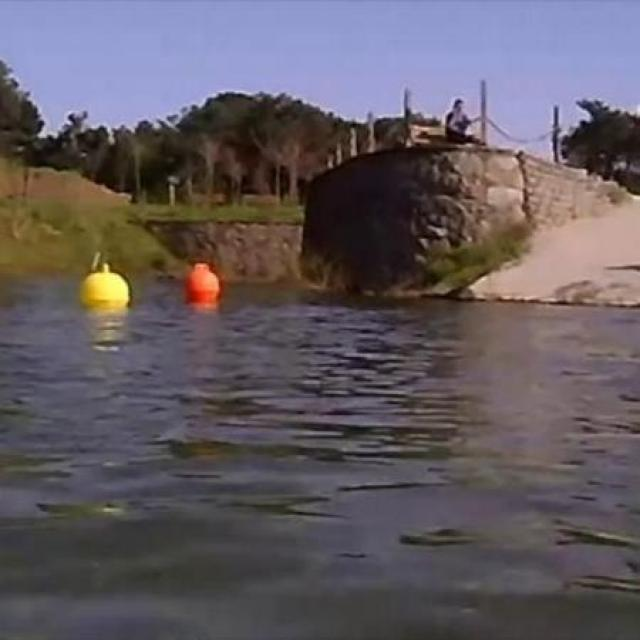buoy: (78, 269, 134, 316), (185, 264, 215, 303)
